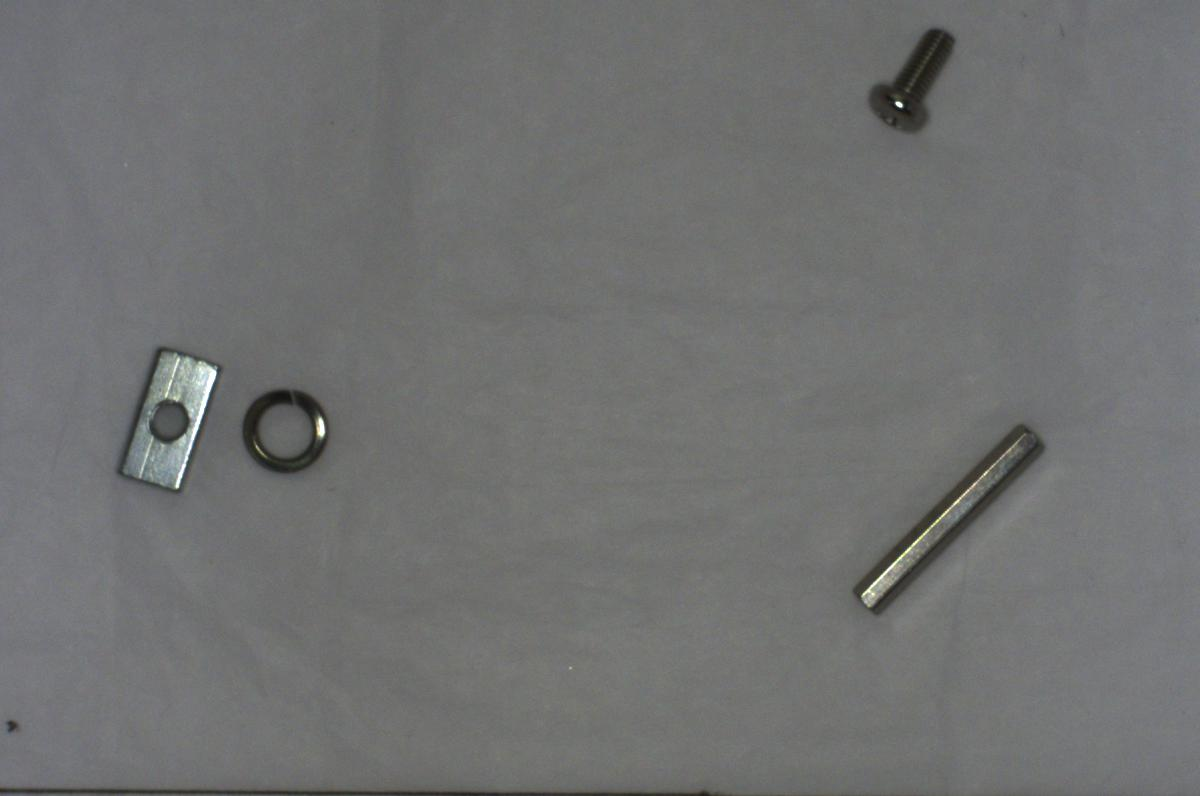Double hexagonal column: (848, 408, 1050, 621)
Rectangular nut: (106, 339, 219, 493)
Round head screw: (862, 20, 960, 141)
Spring washer: (241, 376, 334, 476)
